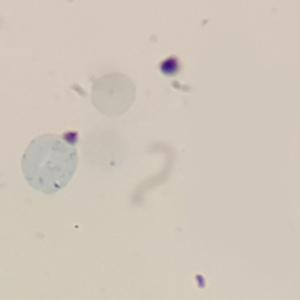erythrocyte: (88, 71, 139, 120)
punctate reticulocyte: (19, 132, 82, 197)
